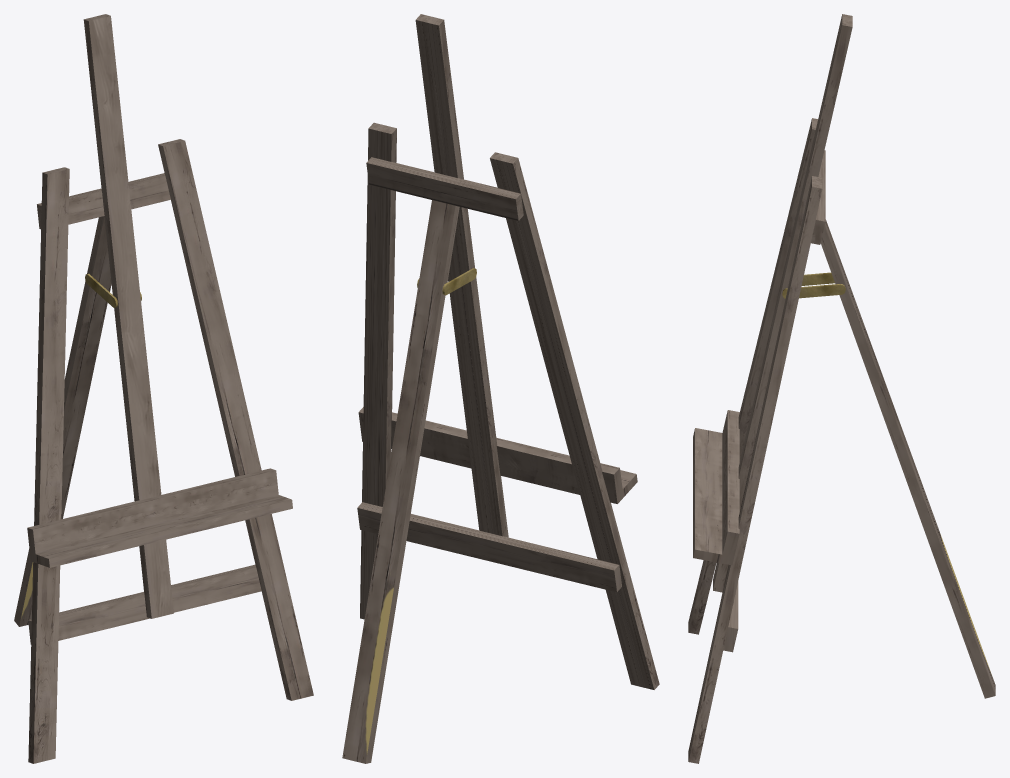
Rendered from easel.fbx.
3 renders of one model, left to right at view 1: azimuth 30°, elevation 25°; view 2: azimuth 150°, elevation 25°; view 3: azimuth 270°, elevation 25°, orthographic. The views are drawn at different scales.
Parts seen in each view (by area): view 1: polySurface1838; view 2: polySurface1838; view 3: polySurface1838.
Part boxes in pixels (box(x1,y1,x2,y2)): polySurface1838: box(14, 14, 313, 763); polySurface1838: box(342, 14, 659, 763); polySurface1838: box(688, 14, 995, 763).
Bounding box in the file's own units: 113 × 253 × 104.
